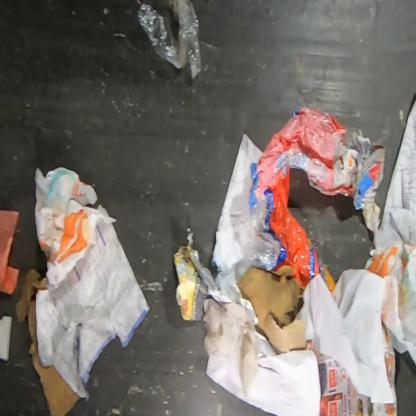cardboard: (14, 267, 80, 416), (237, 266, 308, 355)
soft_plastic: (242, 104, 354, 297), (134, 0, 204, 80)
